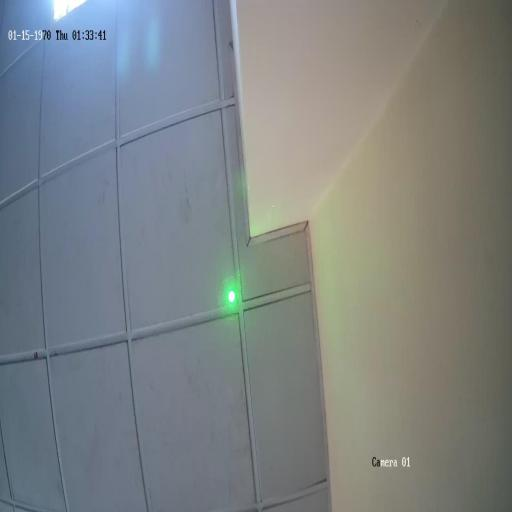laser: (228, 284, 236, 305)
